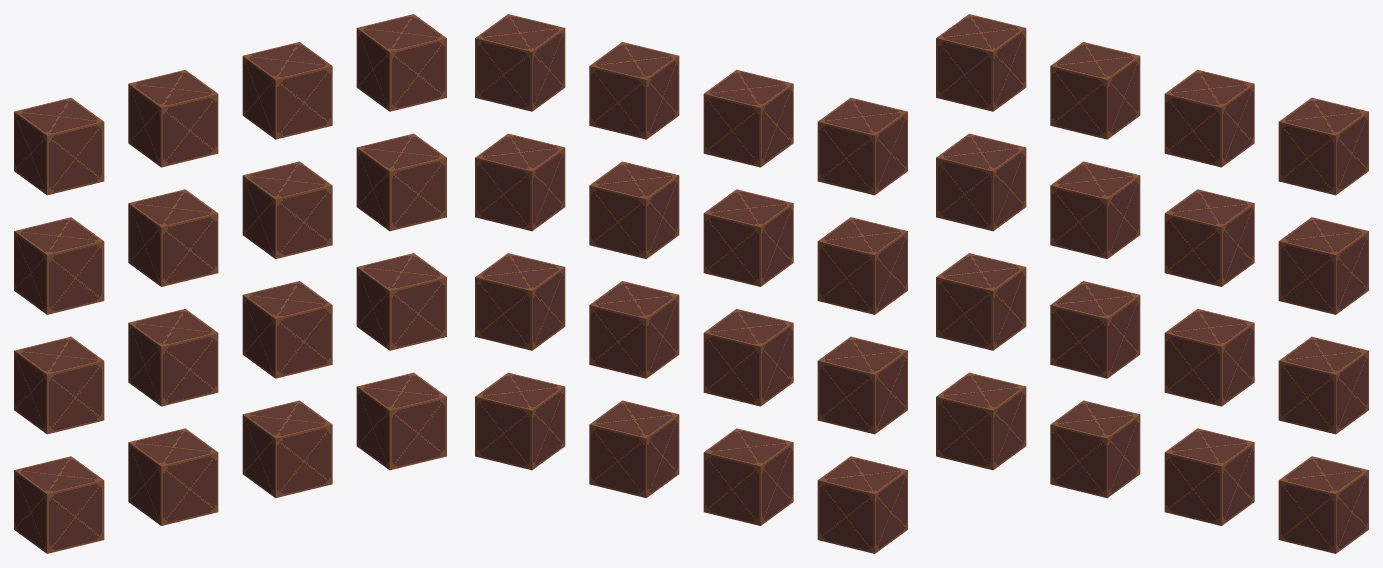
Rendered from CrateArmy.fbx.
The picture shows the model from 3 angles, left to right: view 1: azimuth 30°, elevation 25°; view 2: azimuth 150°, elevation 25°; view 3: azimuth 330°, elevation 25°; orthographic projection.
Parts seen in each view (by area): view 1: Cube, Cube.004, Cube.007, Cube.008, Cube.011, Cube.012, Cube.002, Cube.014, Cube.003, Cube.006, Cube.010, Cube.015 (+4 smaller); view 2: Cube, Cube.004, Cube.007, Cube.008, Cube.011, Cube.012, Cube.002, Cube.014, Cube.003, Cube.006, Cube.010, Cube.015 (+4 smaller); view 3: Cube.003, Cube.004, Cube.007, Cube.008, Cube.011, Cube.015, Cube.001, Cube.013, Cube, Cube.005, Cube.009, Cube.012 (+4 smaller).
Part boxes in pixels (x1,y1,x2,y2): Cube: (14, 456, 104, 553); Cube.004: (356, 253, 446, 350); Cube.007: (14, 336, 104, 434); Cube.008: (14, 217, 104, 314); Cube.011: (356, 133, 446, 231); Cube.012: (356, 14, 446, 111); Cube.002: (242, 400, 332, 498); Cube.014: (128, 69, 218, 167); Cube.003: (356, 372, 446, 470); Cube.006: (128, 309, 218, 406); Cube.010: (242, 161, 332, 258); Cube.015: (14, 97, 104, 195); Cube: (817, 456, 907, 553); Cube.004: (475, 253, 565, 350); Cube.007: (817, 336, 907, 434); Cube.008: (817, 217, 907, 314); Cube.011: (475, 133, 565, 231); Cube.012: (475, 14, 565, 111); Cube.002: (589, 400, 679, 498); Cube.014: (703, 69, 793, 167); Cube.003: (475, 372, 565, 470); Cube.006: (703, 309, 793, 406); Cube.010: (589, 161, 679, 258); Cube.015: (817, 97, 907, 195); Cube.003: (1278, 456, 1368, 553); Cube.004: (1278, 336, 1368, 434); Cube.007: (936, 253, 1026, 350); Cube.008: (936, 133, 1026, 231); Cube.011: (1278, 217, 1368, 314); Cube.015: (936, 14, 1026, 111); Cube.001: (1050, 400, 1140, 498); Cube.013: (1164, 69, 1254, 167); Cube: (936, 372, 1026, 470); Cube.005: (1164, 309, 1254, 406); Cube.009: (1050, 161, 1140, 258); Cube.012: (1278, 97, 1368, 195).
Size of the model in its own units: 14 by 14 by 2.
